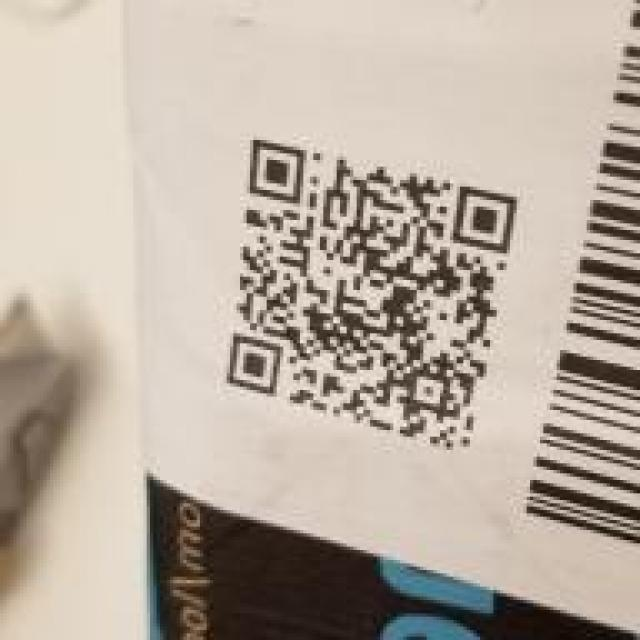qr_code: (224, 139, 519, 452)
